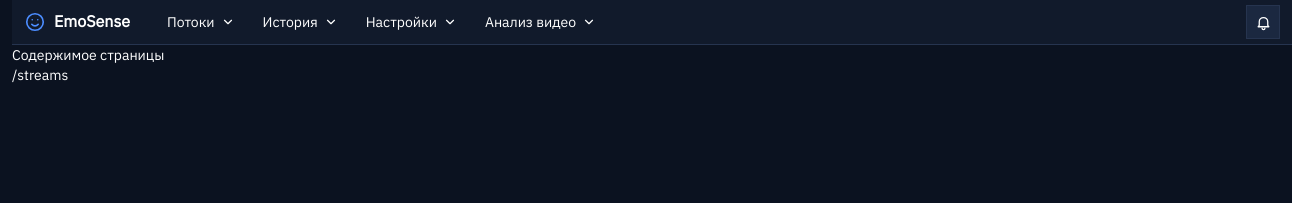
Scenario: Toolbar menus › the bell shares the toolbar's single open menu
The image size is (1292, 203).
Click the button "Потоки" at (201, 22), box left=154, top=4, right=248, bottom=40
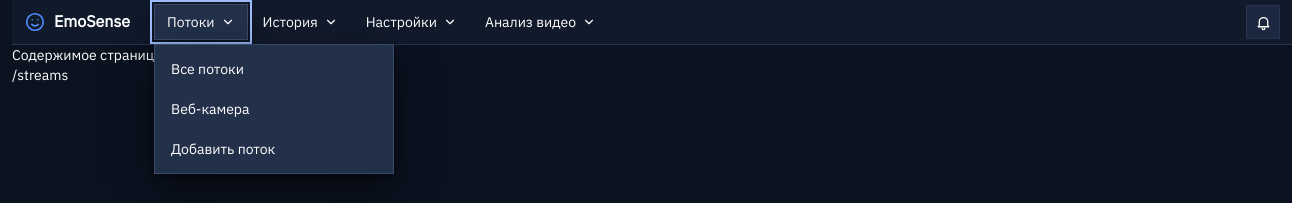
Click the button named "Уведомления" at (1263, 22), box left=1246, top=5, right=1280, bottom=39
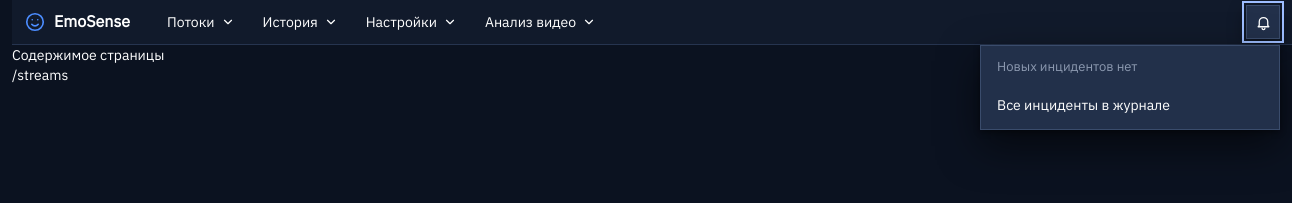
Now the number of menus is 1, box left=980, top=45, right=1280, bottom=130
Now the text "Новых инцидентов нет" is shown, box left=997, top=58, right=1137, bottom=75
Press Escape
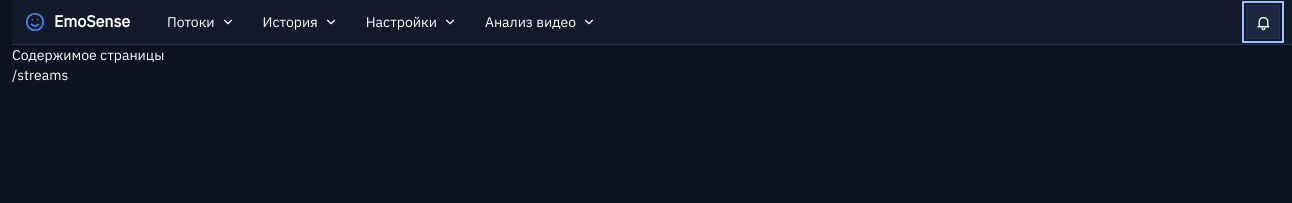
Now the menu is gone
